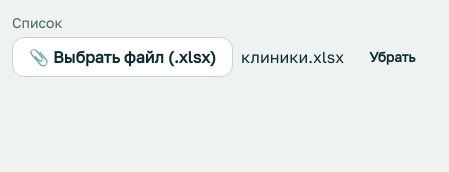
FilePicker: кнопка вместо «Choose File», имя выбранного файла и «Убрать»
The width and height of the screenshot is (449, 172).
Earlier steps of the test are not shown.
Expected: the button "📎 Выбрать файл (.xlsx)" is shown, [12, 37, 233, 77]
Expected: the text "клиники.xlsx" is shown, [241, 45, 344, 69]
Click the button "Убрать". click: point(392, 57)
box: [352, 37, 433, 77]
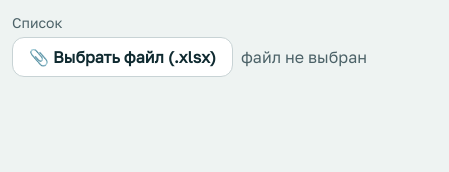
Expected: the element labelled "Список" is empty, [12, 14, 367, 77]
Expected: the text "файл не выбран" is shown, [241, 45, 367, 69]
